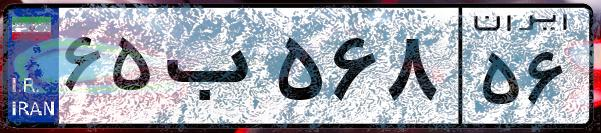5: (270, 28, 330, 110), (475, 38, 525, 113), (110, 28, 158, 98)
6: (330, 28, 385, 110), (57, 26, 110, 100), (525, 38, 570, 115)
8: (385, 28, 445, 110)
ب: (158, 20, 270, 120)
